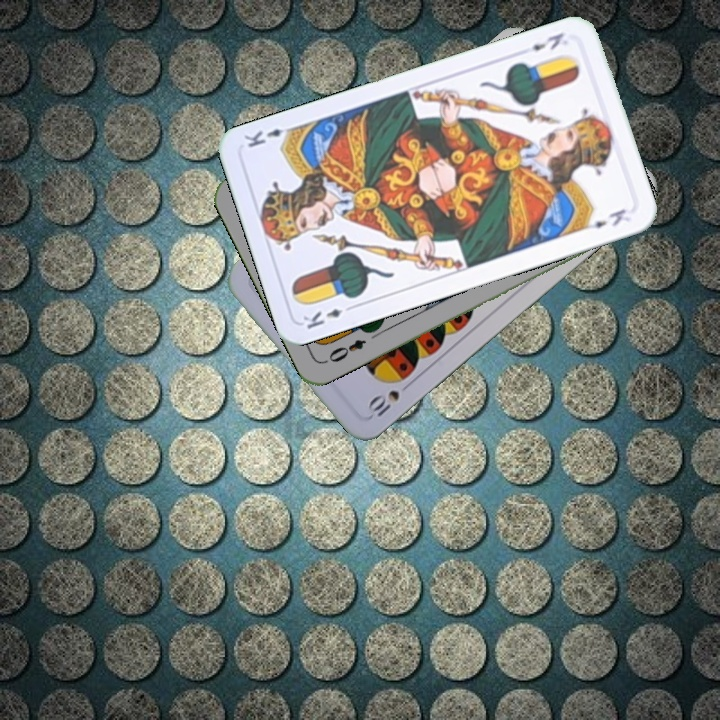EK: (299, 300, 358, 332), (527, 28, 567, 54)
EO: (320, 335, 369, 366)
S10: (364, 377, 415, 420)
